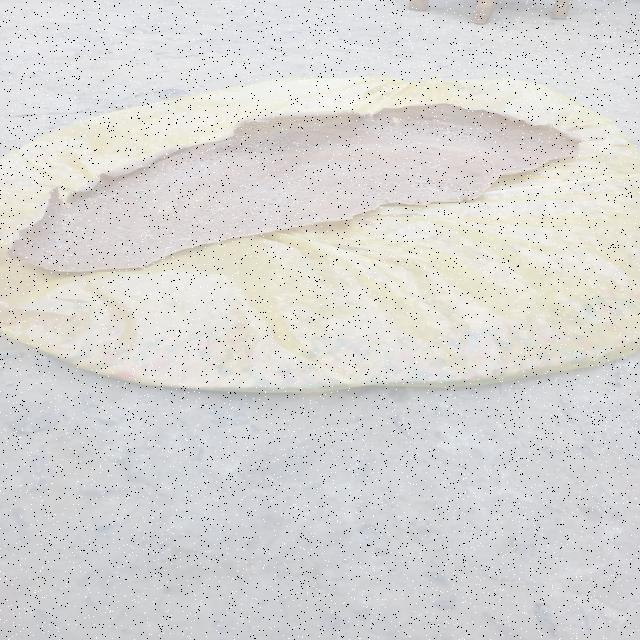injera_mold: (62, 211, 85, 223), (139, 229, 155, 239), (45, 237, 58, 244), (134, 189, 148, 195), (151, 178, 160, 186), (77, 201, 86, 207), (243, 184, 252, 190), (80, 228, 93, 232), (86, 222, 96, 227), (178, 237, 190, 241), (62, 226, 72, 230), (257, 188, 266, 192), (164, 246, 171, 251), (260, 147, 266, 151), (210, 146, 217, 149), (152, 198, 157, 202), (95, 191, 101, 194), (248, 178, 256, 180), (101, 207, 106, 210), (391, 136, 398, 138), (177, 218, 183, 220), (201, 164, 206, 166), (174, 187, 178, 189), (244, 194, 248, 196), (148, 202, 151, 203)
